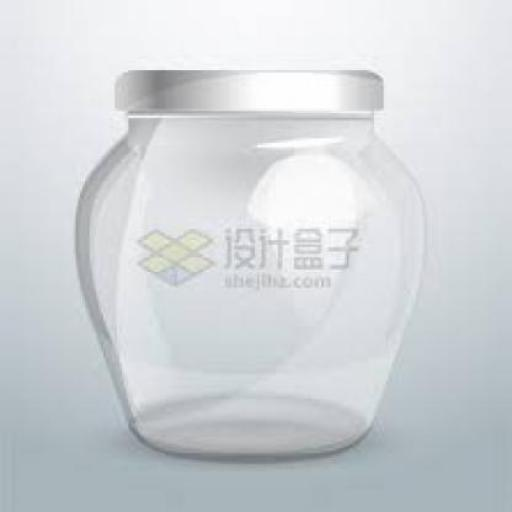glass: (73, 106, 423, 455)
plastic: (110, 68, 381, 113)
